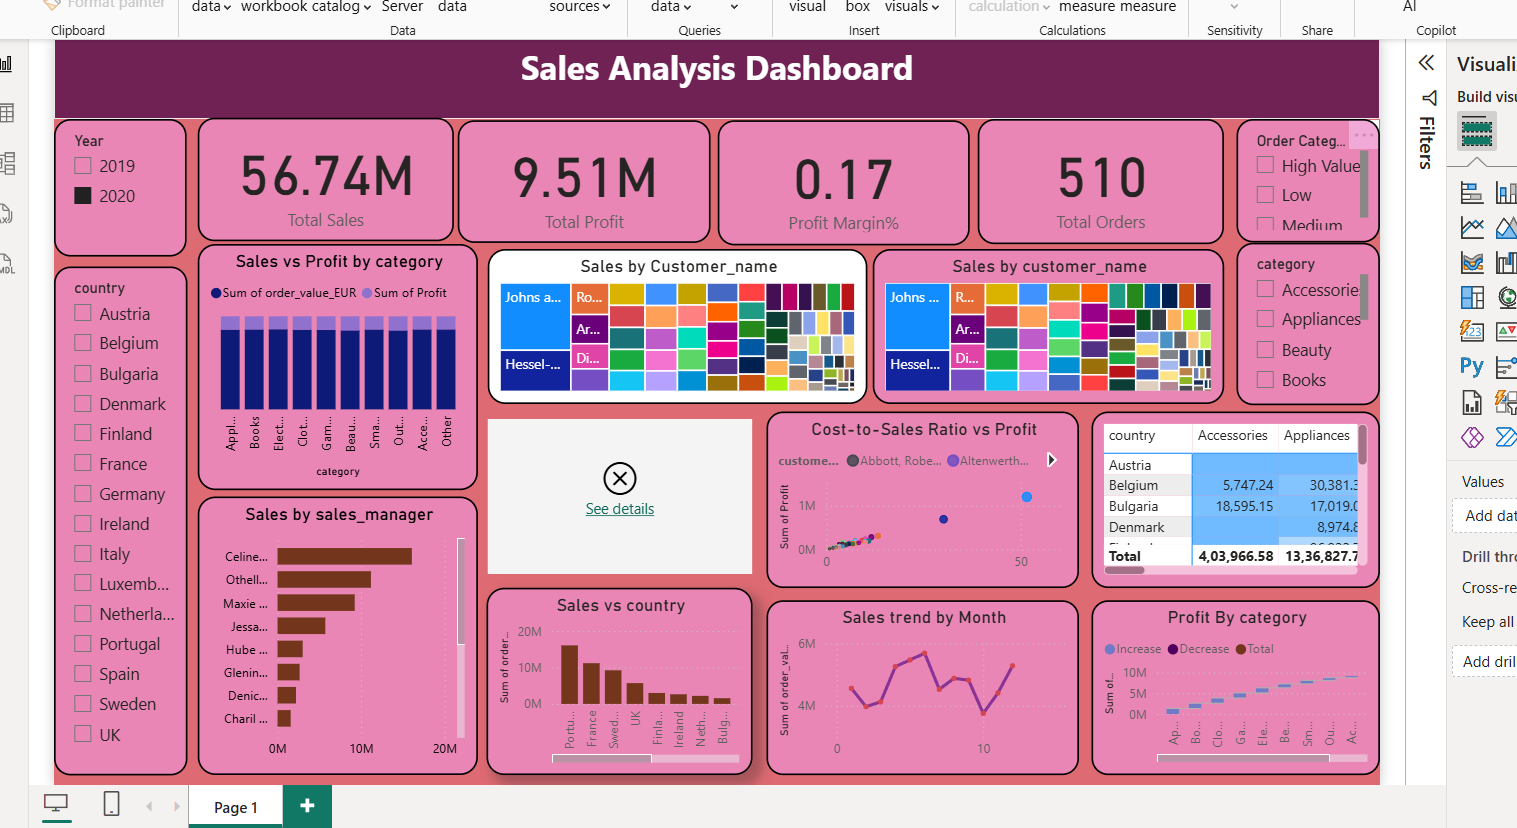

This screenshot's page, from the dashboard's own definition file:
{"tool":"powerbi","page":{"name":"Page 1","canvas":[1280,720],"ordinal":0},"visuals":[{"type":"textbox","box":[0,0,1280.3,76.8],"z":0},{"type":"card","fields":{"Values":["sales_db newsales.Total Sales"]},"box":[138.6,75.5,247,119.4],"z":1000},{"type":"card","fields":{"Values":["sales_db newsales.Total Profit"]},"box":[389.7,78.2,244.3,118],"z":2000},{"type":"card","fields":{"Values":["sales_db newsales.Profit Margin%"]},"box":[639.5,75.5,242.9,120.8],"z":3000},{"type":"card","fields":{"Values":["sales_db newsales.Total Orders"]},"box":[891.9,74.1,237.4,120.8],"z":4000},{"type":"columnChart","title":"Sales vs country","fields":{"Y":["Sum(sales_db newsales.order_value_EUR)"],"Category":["sales_db newsales.country"]},"box":[417.2,529.7,256.6,181.1],"z":5000},{"type":"hundredPercentStackedColumnChart","title":"Sales vs Profit by category","fields":{"Y":["Sum(sales_db newsales.order_value_EUR)","Sum(sales_db newsales.Profit)"],"Category":["sales_db newsales.category"]},"box":[138.6,197.6,270.3,237.4],"z":6000},{"type":"lineChart","title":"Sales trend by Month","fields":{"Y":["Sum(sales_db newsales.order_value_EUR)"],"Category":["sales_db newsales.Month"]},"box":[687.5,542,301.9,168.8],"z":7000},{"type":"clusteredBarChart","title":"Sales by sales_manager","fields":{"Y":["Sum(sales_db newsales.order_value_EUR)"],"Category":["sales_db newsales.sales_manager"]},"box":[138.6,441.9,270.3,269],"z":8000},{"type":"treemap","title":"Sales by customer_name","fields":{"Values":["Sum(sales_db newsales.order_value_EUR)"],"Group":["sales_db newsales.customer_name"]},"box":[790.4,203.1,338.9,149.6],"z":9000},{"type":"slicer","fields":{"Values":["sales_db newsales.country"]},"box":[0,219.6,129,491.3],"z":10000},{"type":"slicer","fields":{"Values":["sales_db newsales.category"]},"box":[1141.7,196.2,138.6,156.4],"z":11000},{"type":"slicer","fields":{"Values":["sales_db newsales.Order Category"]},"box":[1141.7,76.8,138.6,119.4],"z":12000},{"type":"slicer","fields":{"Values":["sales_db newsales.Year"]},"box":[0,76.8,127.6,133.1],"z":13000},{"type":"treemap","title":"Sales by Customer_name","fields":{"Group":["sales_db newsales.customer_name"],"Values":["sales_db newsales.Total Sales"]},"box":[418.5,203.1,366.4,149.6],"z":14000},{"type":"map","fields":{"Category":["sales_db newsales.country"],"Size":["sales_db newsales.Total Sales"]},"box":[418.5,366.4,255.2,149.6],"z":15000},{"type":"waterfallChart","title":"Profit By category","fields":{"Category":["sales_db newsales.category"],"Y":["Sum(sales_db newsales.Profit)"]},"box":[1001.7,542,278.6,168.8],"z":16000},{"type":"scatterChart","title":"Cost-to-Sales Ratio vs Profit","fields":{"X":["Sum(sales_db newsales.Cost-Sales Ratio)"],"Y":["Sum(sales_db newsales.Profit)"],"Series":["sales_db newsales.customer_name"],"Size":["sales_db newsales.Total Sales"]},"box":[687.5,359.5,301.9,170.2],"z":17000},{"type":"pivotTable","fields":{"Rows":["sales_db newsales.country"],"Columns":["sales_db newsales.category"],"Values":["Sum(sales_db newsales.Profit)"]},"box":[1001.7,359.5,278.6,170.2],"z":18000}]}

Visuals, with their boxes on the page's 1280x720 design canvas (x1, y1, x2, y2). These are canvas units, not pixel positions in the 1517x828 screenshot, which may show the page scaled, cropped or inside an application window:
textbox: rect(0, 0, 1280, 77)
card - sales_db newsales.Total Sales: rect(139, 76, 386, 195)
card - sales_db newsales.Total Profit: rect(390, 78, 634, 196)
card - sales_db newsales.Profit Margin%: rect(640, 76, 882, 196)
card - sales_db newsales.Total Orders: rect(892, 74, 1129, 195)
"Sales vs country" columnChart: rect(417, 530, 674, 711)
"Sales vs Profit by category" hundredPercentStackedColumnChart: rect(139, 198, 409, 435)
"Sales trend by Month" lineChart: rect(688, 542, 989, 711)
"Sales by sales_manager" clusteredBarChart: rect(139, 442, 409, 711)
"Sales by customer_name" treemap: rect(790, 203, 1129, 353)
slicer - sales_db newsales.country: rect(0, 220, 129, 711)
slicer - sales_db newsales.category: rect(1142, 196, 1280, 353)
slicer - sales_db newsales.Order Category: rect(1142, 77, 1280, 196)
slicer - sales_db newsales.Year: rect(0, 77, 128, 210)
"Sales by Customer_name" treemap: rect(418, 203, 785, 353)
map - sales_db newsales.country x sales_db newsales.Total Sales: rect(418, 366, 674, 516)
"Profit By category" waterfallChart: rect(1002, 542, 1280, 711)
"Cost-to-Sales Ratio vs Profit" scatterChart: rect(688, 360, 989, 530)
pivotTable - sales_db newsales.country x sales_db newsales.category: rect(1002, 360, 1280, 530)
